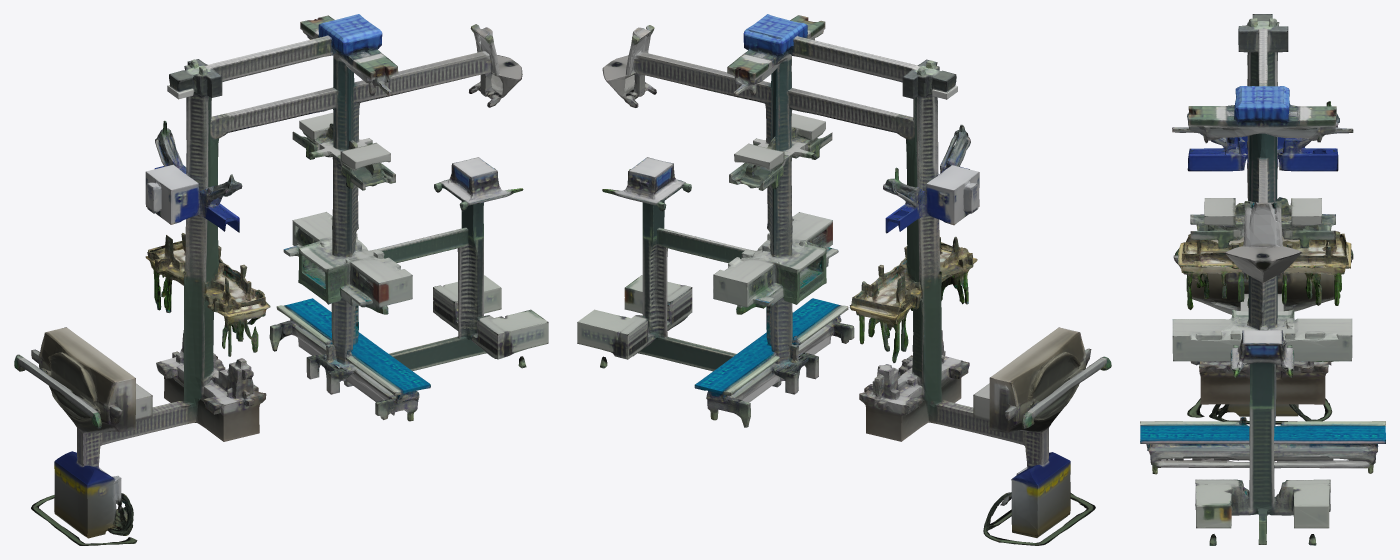
The model's file is factory_model.glb.
3 renders of one model, left to right at view 1: azimuth 30°, elevation 25°; view 2: azimuth 150°, elevation 25°; view 3: azimuth 270°, elevation 25°, orthographic. The views are drawn at different scales.
Visible parts, largest first — view 1: world; view 2: world; view 3: world.
Part boxes in pixels (x1,y1,x2,y2): world: (14,14,548,545); world: (577,14,1111,545); world: (1140,14,1385,545).
Size of the model in its own units: 1 by 0.8956 by 0.4424.
Materials: 1 (1 with a texture image).
